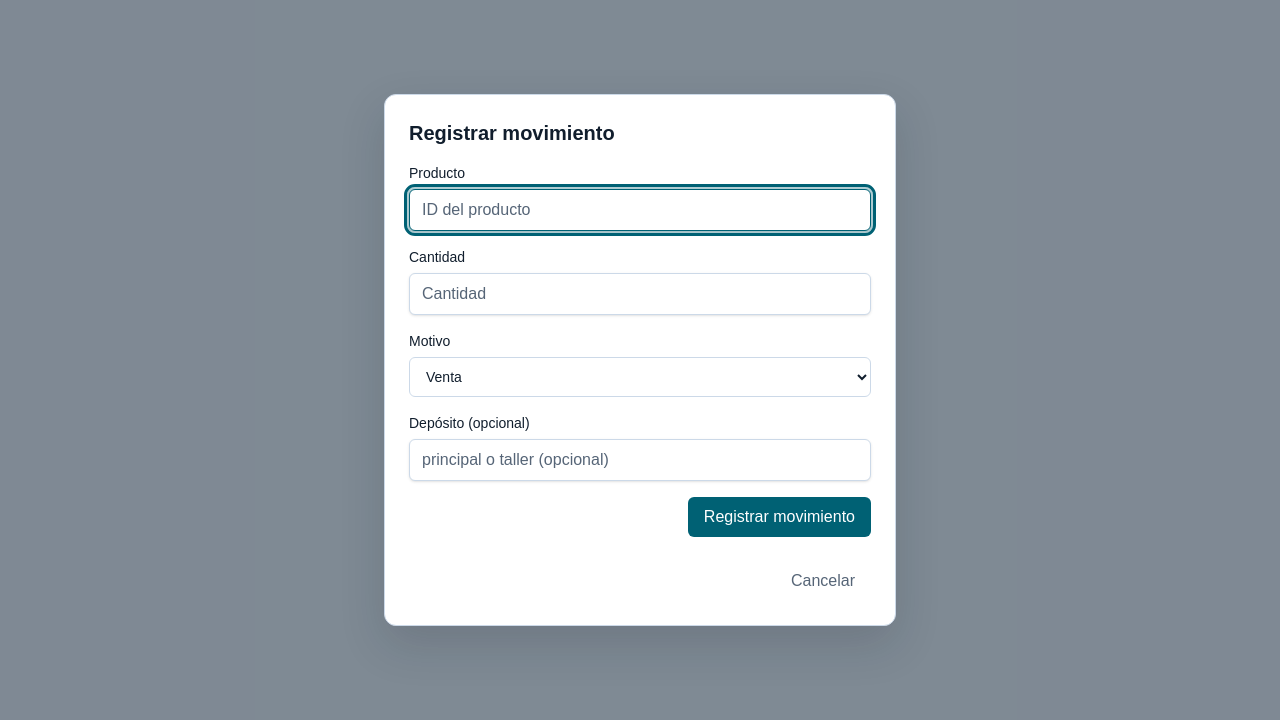
Test case: StockMovementModal › sends a fresh x-idempotency-key per attempt
This screenshot has width=1280, height=720.
Type "p_1" into the field labelled "Producto". click: x=640, y=210
box: [409,189,871,231]
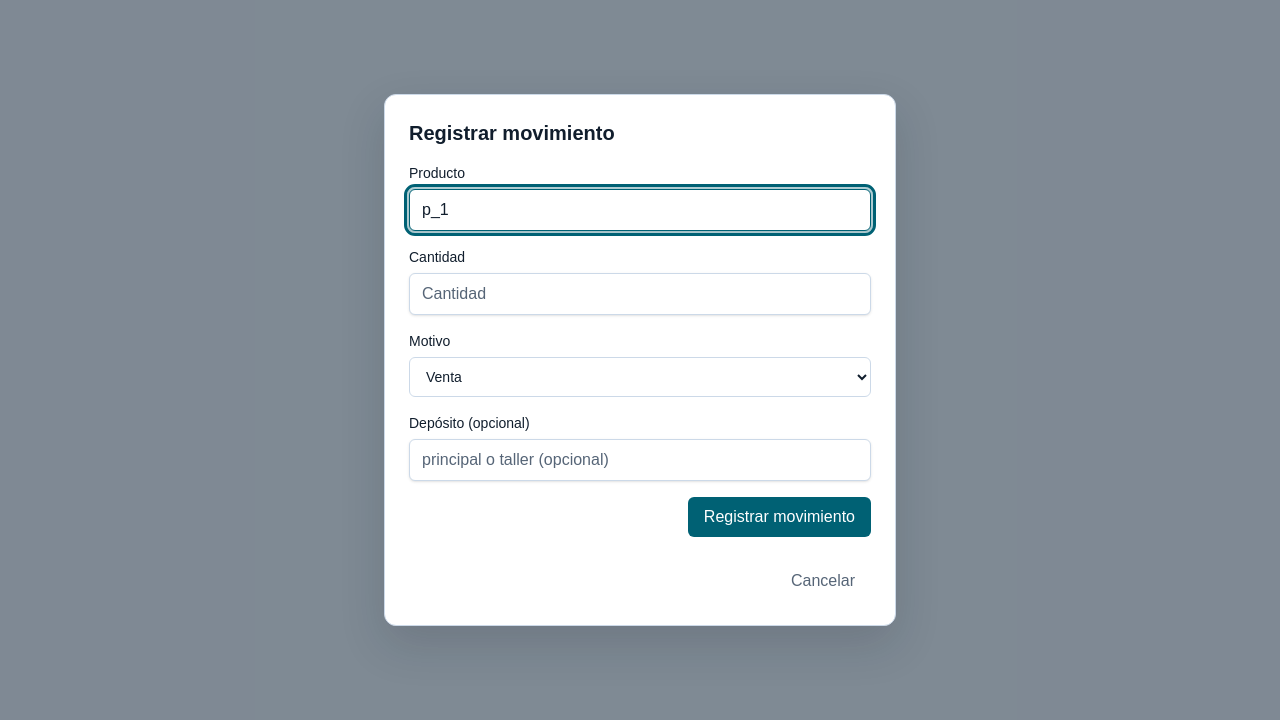
Type "2" into the number field labelled "Cantidad". click: x=640, y=294
box: [409,273,871,315]
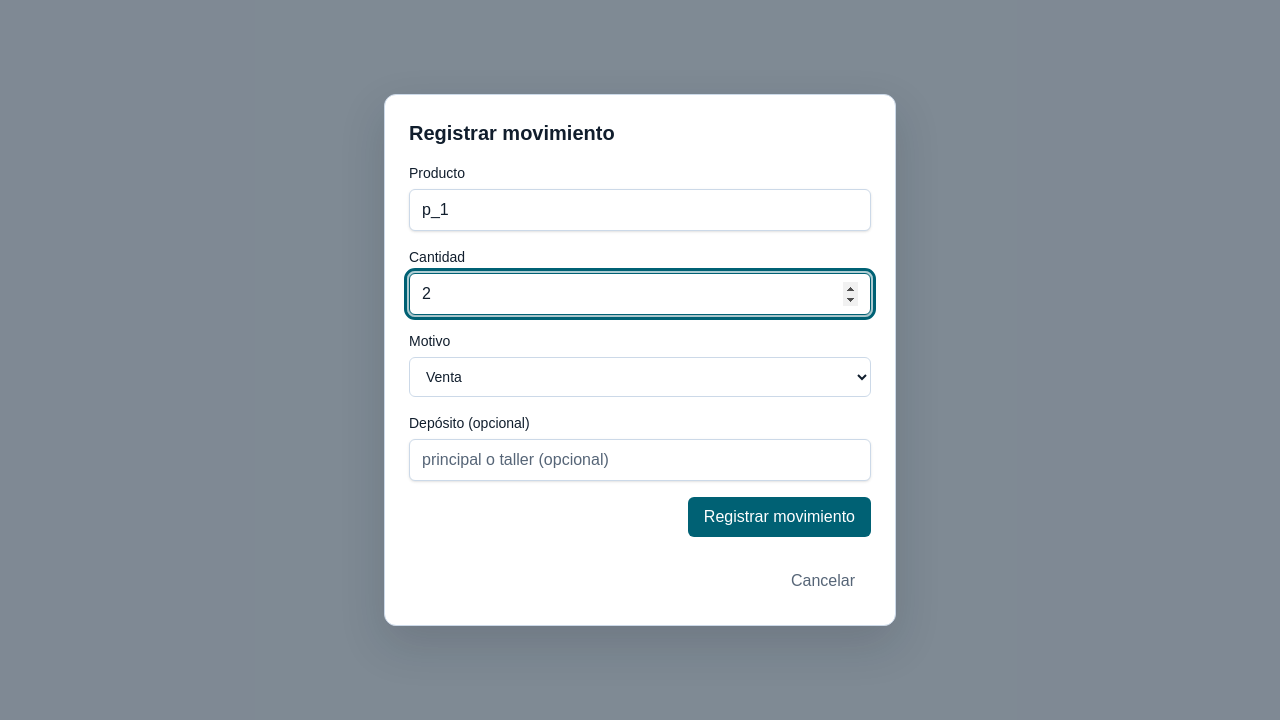
Click the button "Registrar movimiento". click: x=779, y=517
box: [688,497,871,537]
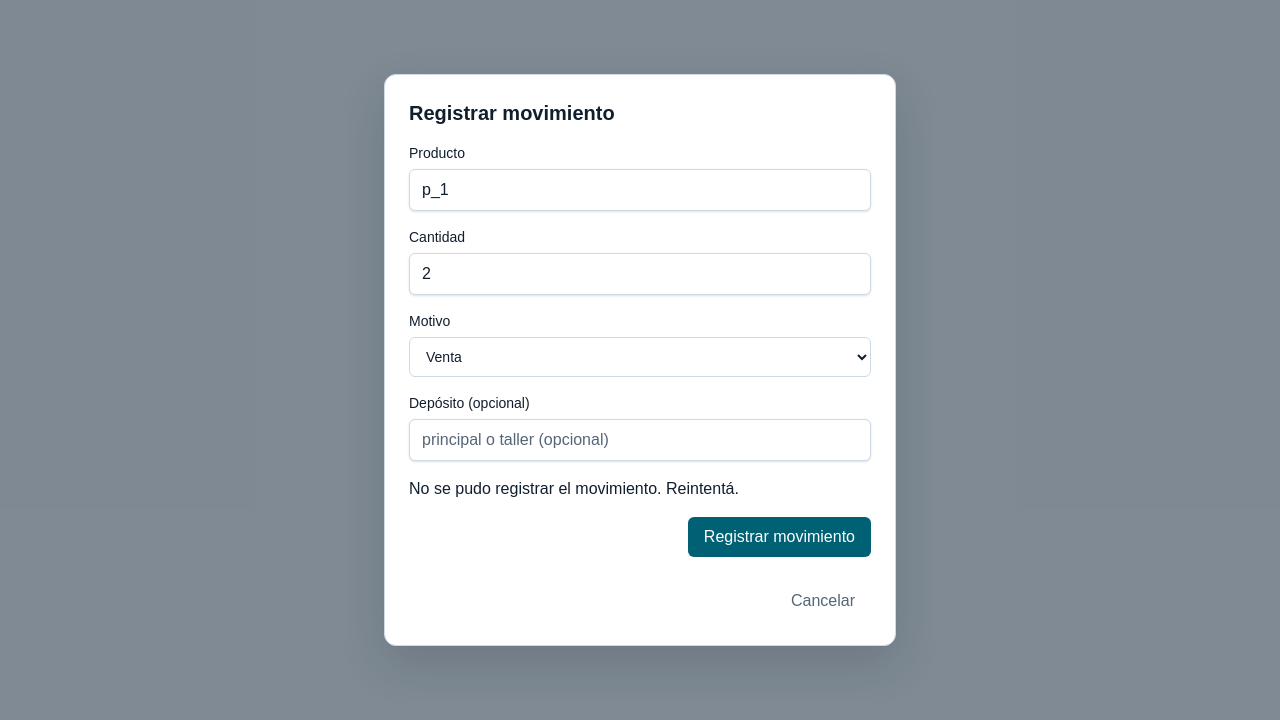
Now the text "No se pudo registrar el movimiento. Reintentá." is shown, box [409,480,739,497]
Click the button "Registrar movimiento". click: x=779, y=537
box: [688,517,871,557]
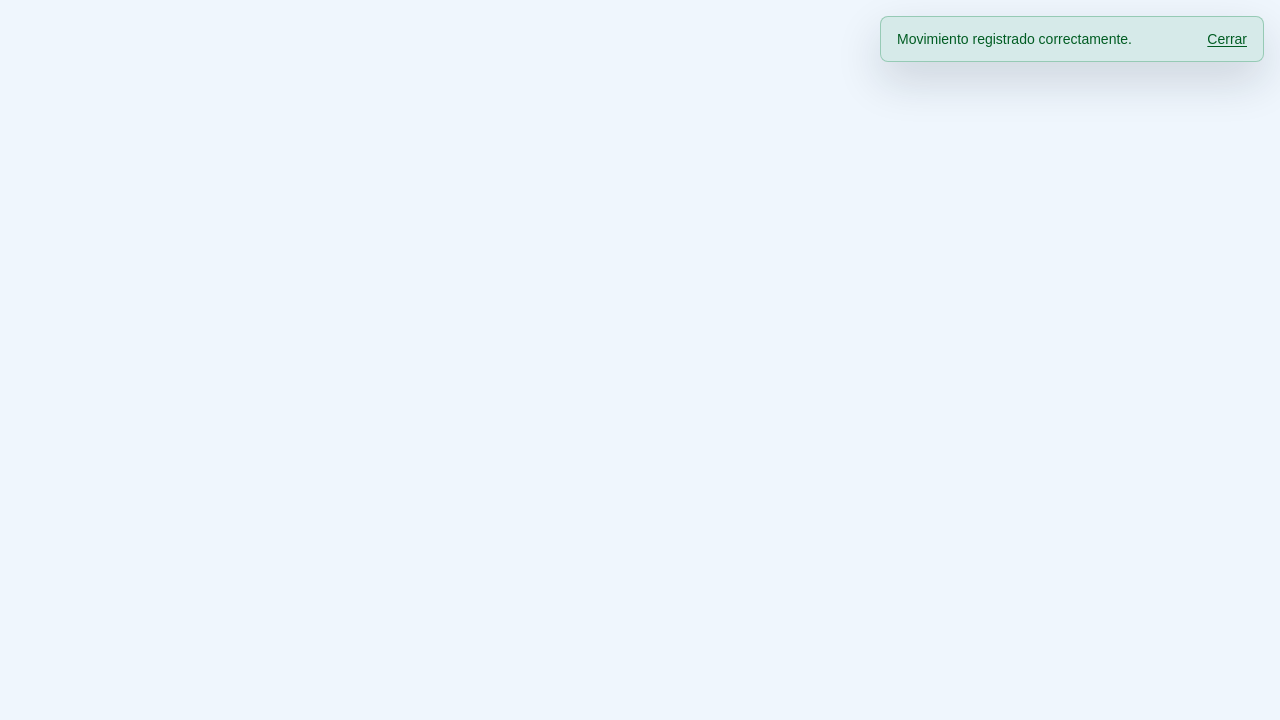
Now the dialog is gone
